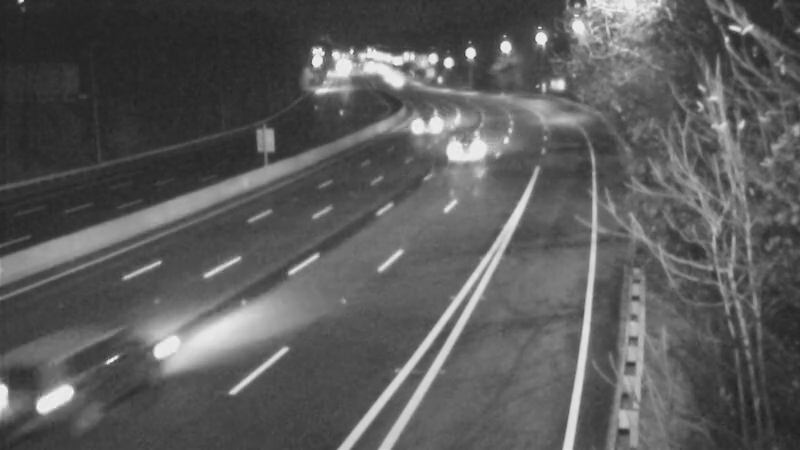vehicle: (33, 320, 143, 430), (421, 113, 501, 193), (404, 102, 454, 152)
